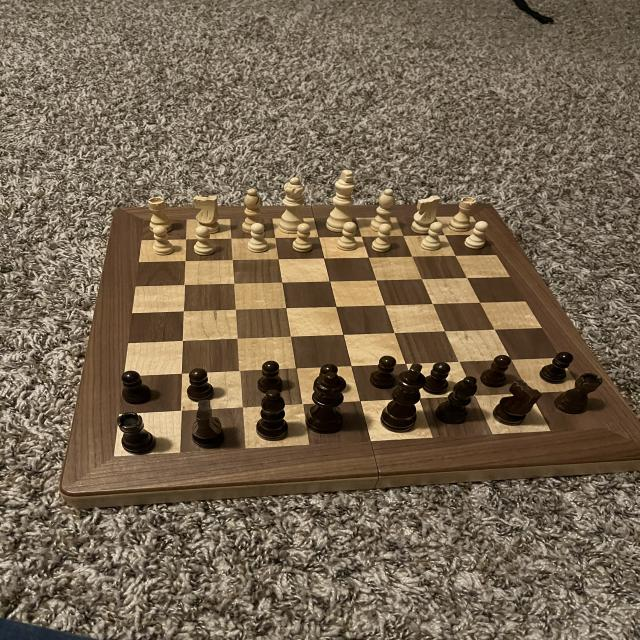bishop: (252, 386, 297, 444), (431, 377, 482, 428)
black-bishop: (380, 359, 428, 438)
black-king: (185, 389, 233, 454), (494, 379, 546, 429)
black-knight: (115, 368, 155, 408), (536, 348, 576, 386), (479, 352, 518, 390), (252, 354, 287, 395), (183, 366, 219, 404), (313, 360, 351, 395), (420, 359, 454, 397), (370, 354, 399, 393)
black-pawn: (305, 367, 352, 439)
black-queen: (110, 408, 162, 459), (554, 371, 606, 418)
black-rook: (238, 187, 267, 236), (368, 190, 395, 232)
white-bishop: (327, 167, 361, 236)
white-king: (194, 193, 222, 236), (412, 192, 440, 235)
white-knight: (462, 221, 493, 253), (335, 219, 363, 254), (148, 224, 178, 256), (190, 225, 220, 257), (369, 222, 397, 256), (245, 223, 272, 255), (291, 221, 315, 255), (420, 221, 445, 252)
white-pawn: (277, 172, 311, 239)
white-queen: (447, 193, 481, 235), (144, 196, 176, 236)
